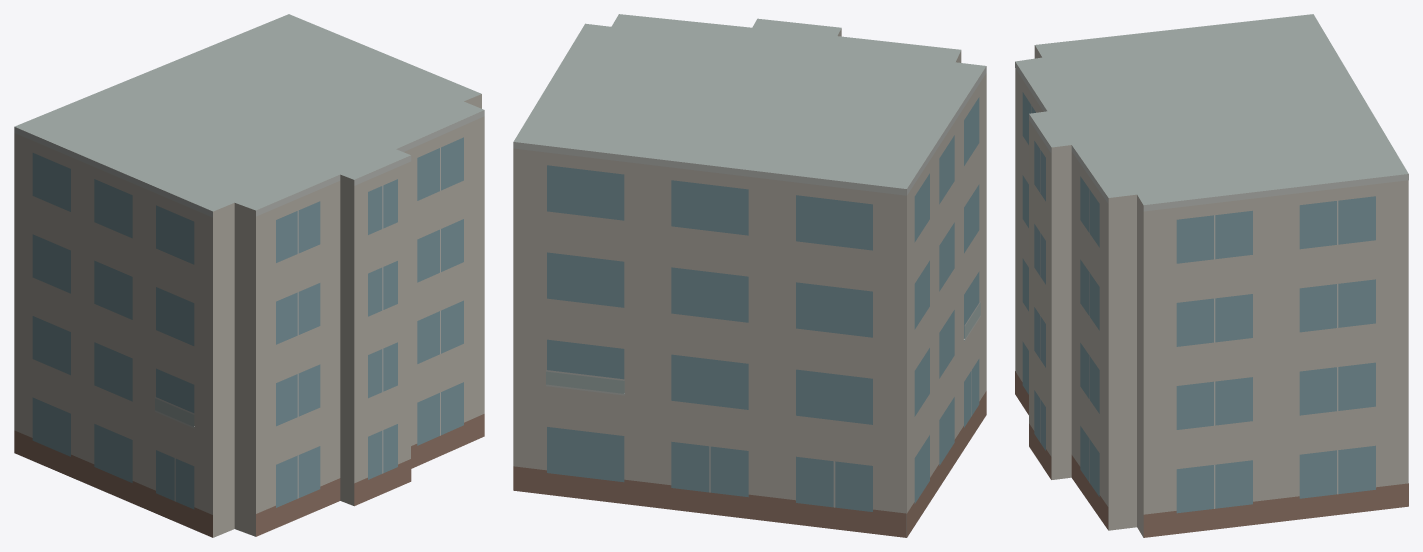
File: survey-upis-32715377.glb
3 renders of one model, left to right at view 1: azimuth 30°, elevation 25°; view 2: azimuth 150°, elevation 25°; view 3: azimuth 270°, elevation 25°, orthographic. The views are drawn at different scales.
Parts seen in each view (by area): view 1: survey-upis-32715377.tmp; view 2: survey-upis-32715377.tmp; view 3: survey-upis-32715377.tmp.
Boxes of the visible parts, bbox=[...] form: survey-upis-32715377.tmp: bbox=[14, 14, 484, 537]; survey-upis-32715377.tmp: bbox=[513, 14, 986, 537]; survey-upis-32715377.tmp: bbox=[1015, 14, 1408, 537].
Bounding box in the file's own units: 15.91 × 12.9 × 13.85.
